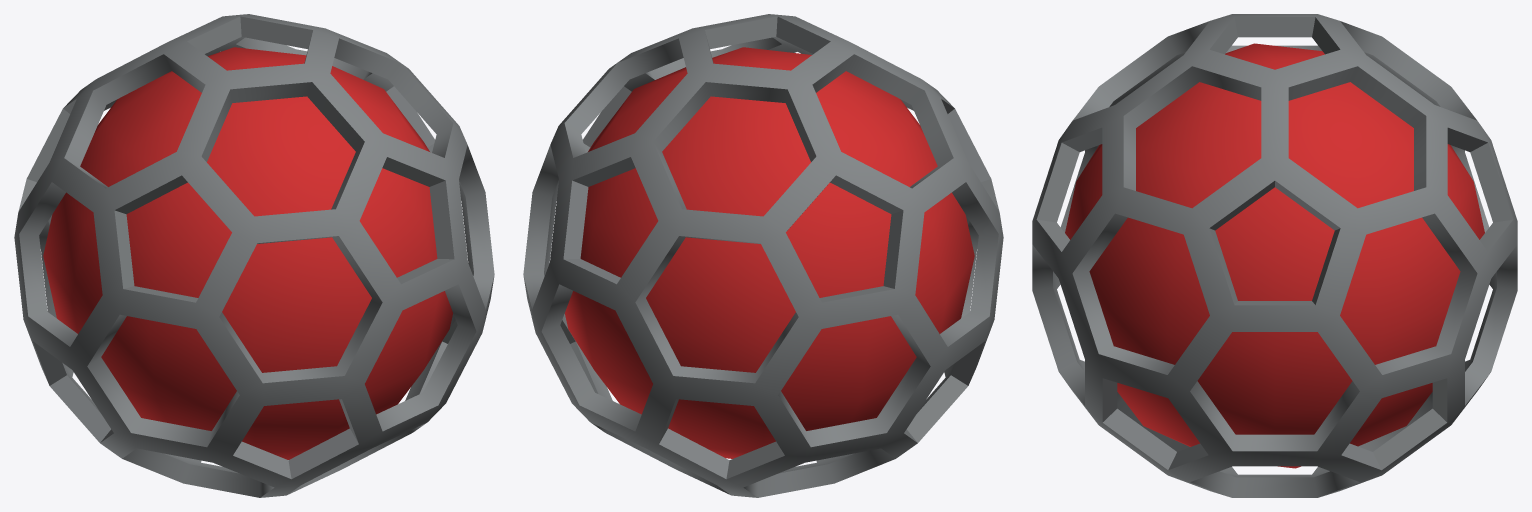
Rendered from Artifact_07.fbx.
The picture shows the model from 3 angles, left to right: view 1: azimuth 30°, elevation 25°; view 2: azimuth 150°, elevation 25°; view 3: azimuth 270°, elevation 25°; orthographic projection.
Parts seen in each view (by area): view 1: Artifact_07; view 2: Artifact_07; view 3: Artifact_07.
Boxes of the visible parts, left/top/right/bottom form: Artifact_07: left=14, top=14, right=494, bottom=497; Artifact_07: left=523, top=14, right=1003, bottom=497; Artifact_07: left=1032, top=14, right=1517, bottom=497.
Size of the model in its own units: 109 by 110 by 107.
